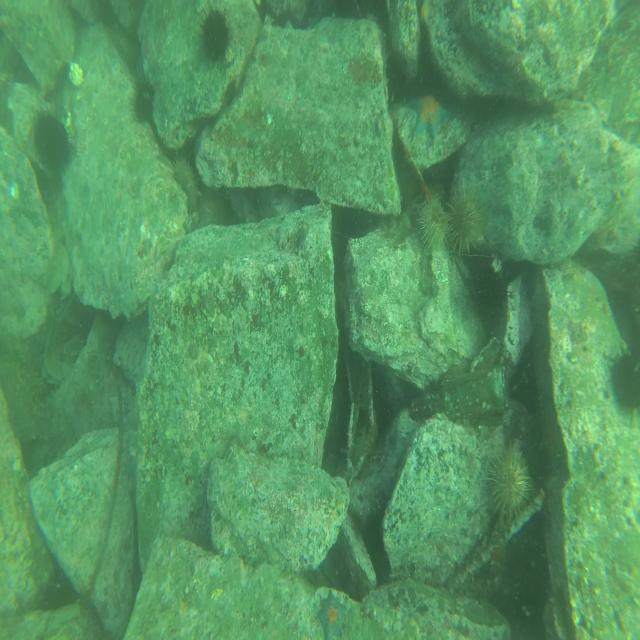echinus: (488, 449, 531, 523), (33, 105, 72, 175), (451, 181, 485, 260), (414, 191, 451, 250), (170, 152, 203, 205), (613, 348, 640, 412), (200, 8, 230, 58), (136, 78, 157, 124)
scallop: (68, 57, 85, 91)
starfish: (408, 86, 452, 147), (317, 590, 347, 636), (418, 0, 434, 30)
